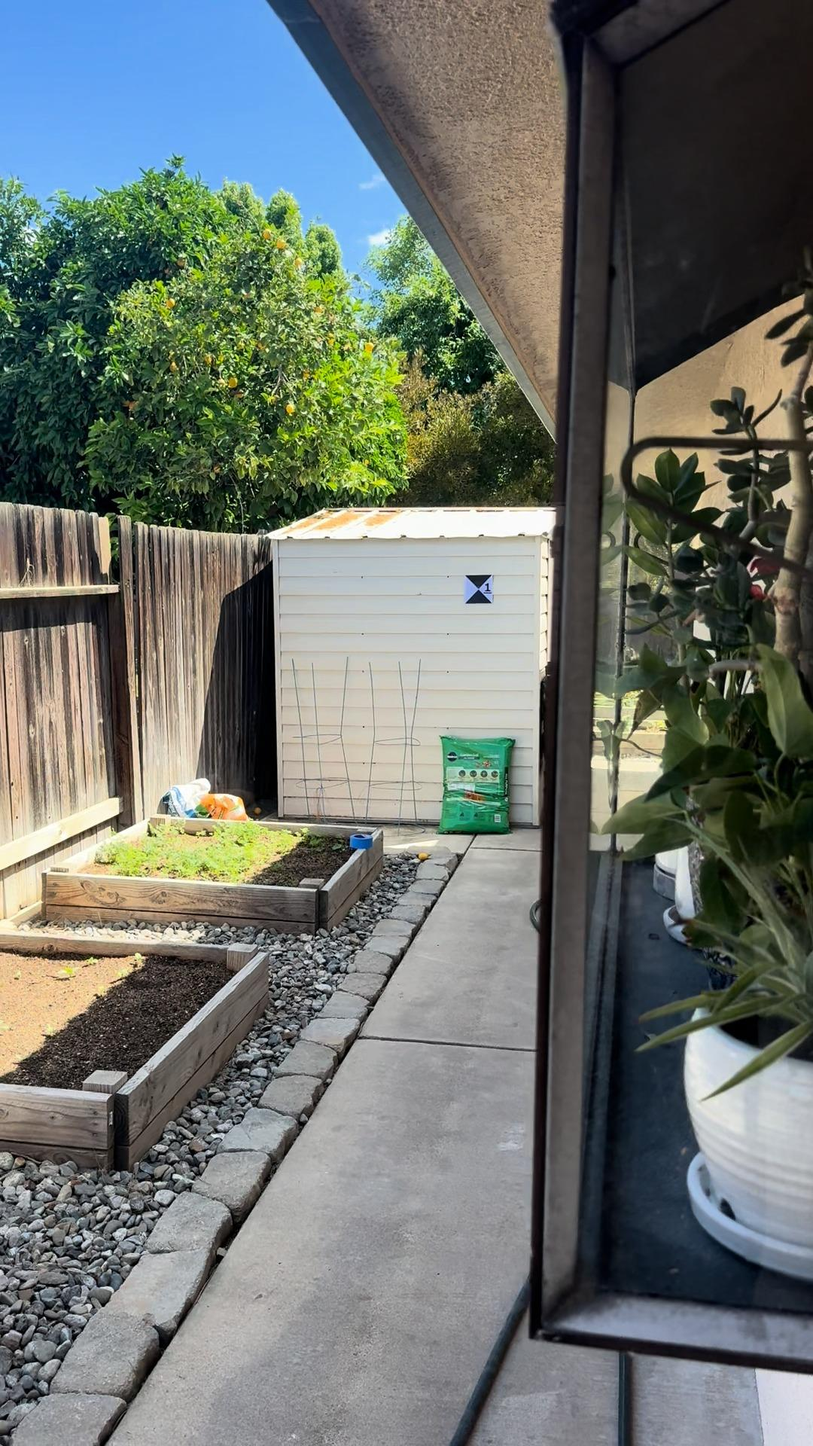target1: (463, 572, 495, 605)
